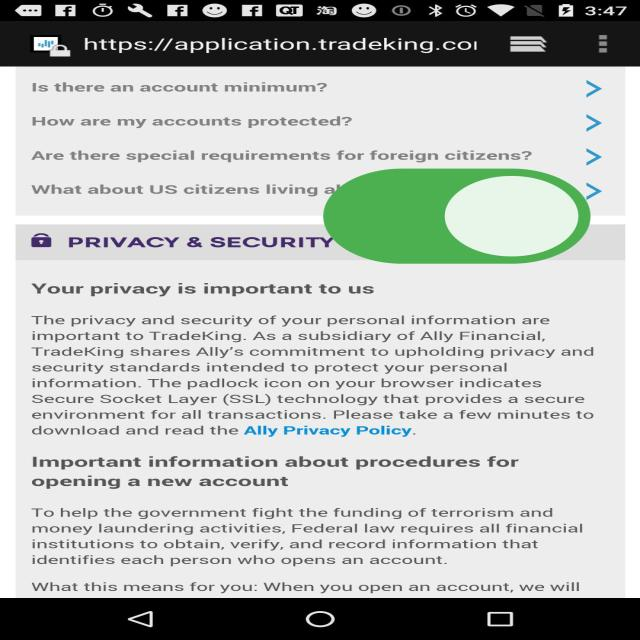social proof: (311, 132, 603, 308)
